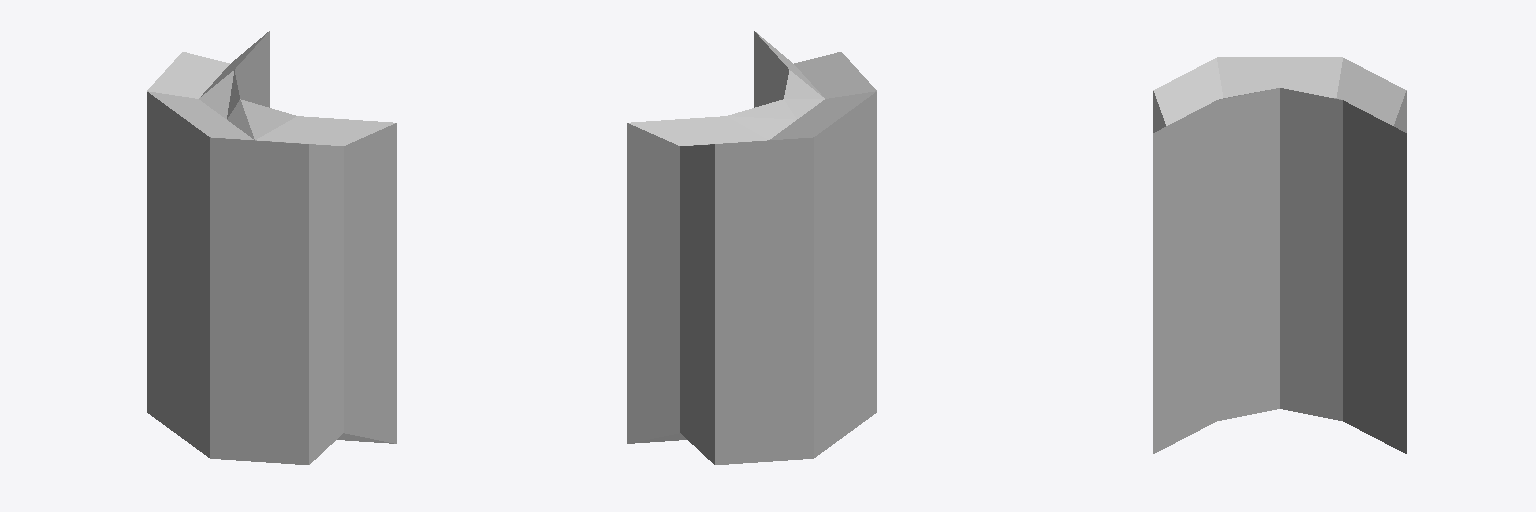
Rendered from Enemy_Riot_Shield.obj.
3 renders of one model, left to right at view 1: azimuth 30°, elevation 25°; view 2: azimuth 150°, elevation 25°; view 3: azimuth 270°, elevation 25°, orthographic.
Parts seen in each view (by area): view 1: Cube; view 2: Cube; view 3: Cube.
Part boxes in pixels (x1,y1,x2,y2): Cube: (147,31,396,464); Cube: (627,31,876,464); Cube: (1153,57,1406,453).
Size of the model in its own units: 53.08 by 105 by 75.